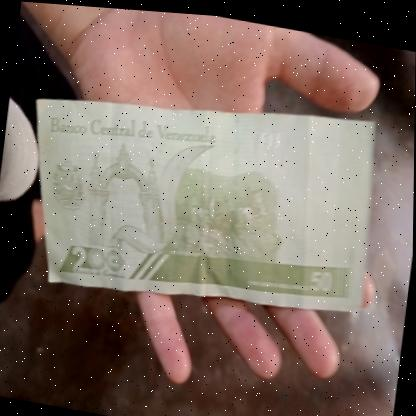fifty-back-vef: (15, 60, 380, 332)
